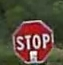stop: (9, 16, 55, 63)
